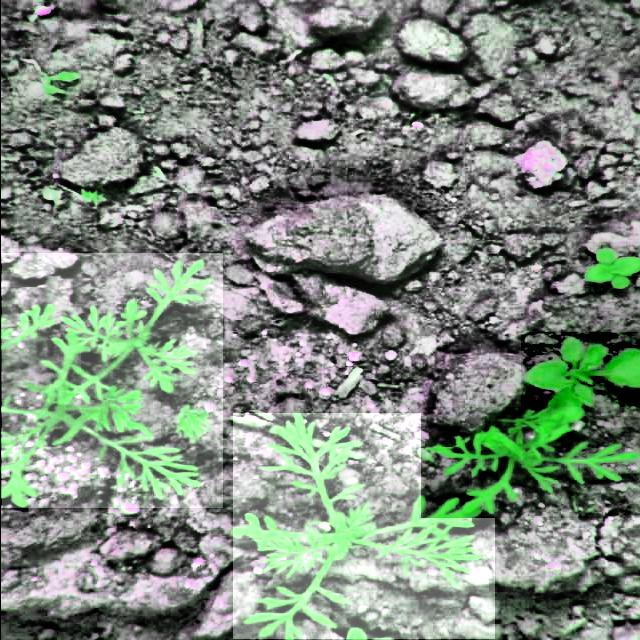Weeds: (520, 332, 640, 447), (584, 242, 640, 293)
undefined: (232, 413, 494, 639), (1, 253, 222, 508), (420, 407, 640, 518)
